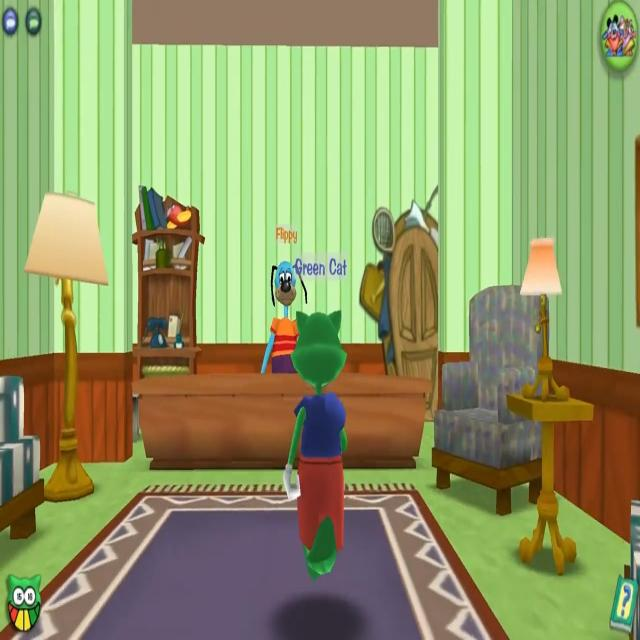npc: (259, 262, 300, 376)
